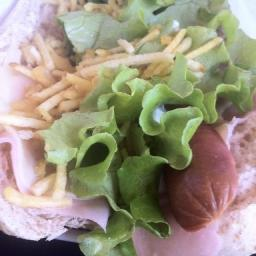hotdog: (164, 116, 241, 234)
